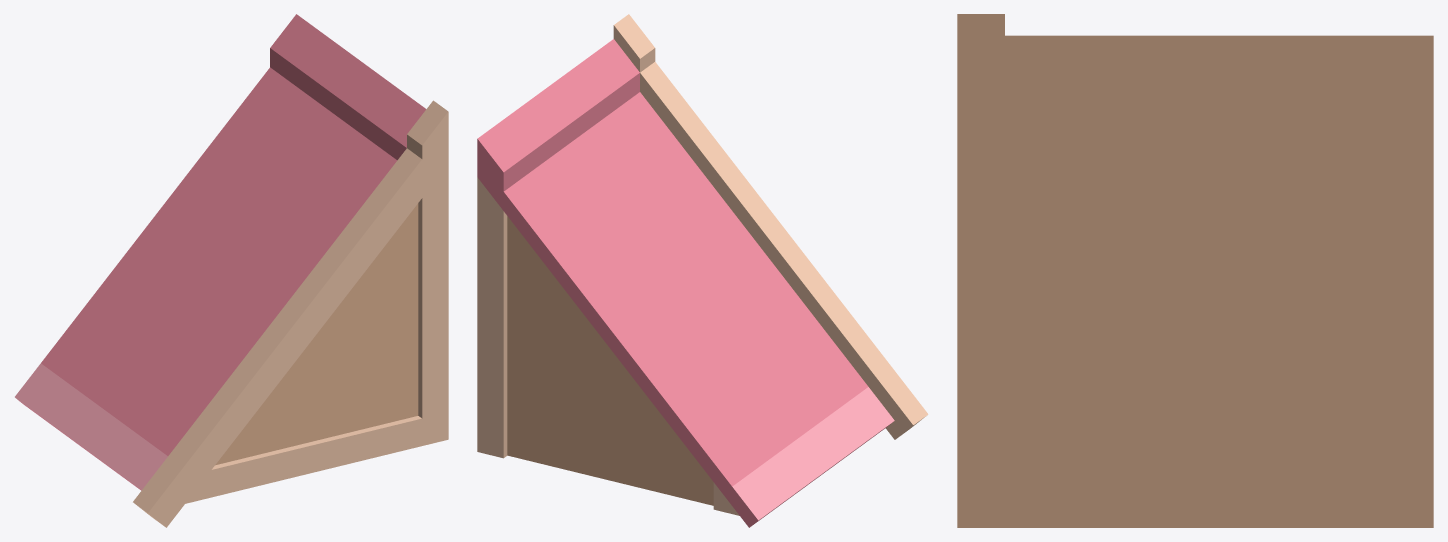
The model's file is roofHighRight.fbx.
3 views of the same model, side by side, from view 1: azimuth 30°, elevation 25°; view 2: azimuth 150°, elevation 25°; view 3: azimuth 270°, elevation 25° (orthographic). The views are drawn at different scales.
Parts seen in each view (by area): view 1: roofHighRight; view 2: roofHighRight; view 3: roofHighRight.
Part boxes in pixels (x1,y1,x2,y2): roofHighRight: (15,14,448,527); roofHighRight: (477,14,928,527); roofHighRight: (957,14,1433,527).
Bounding box in the file's own units: 114 × 126 × 100.
